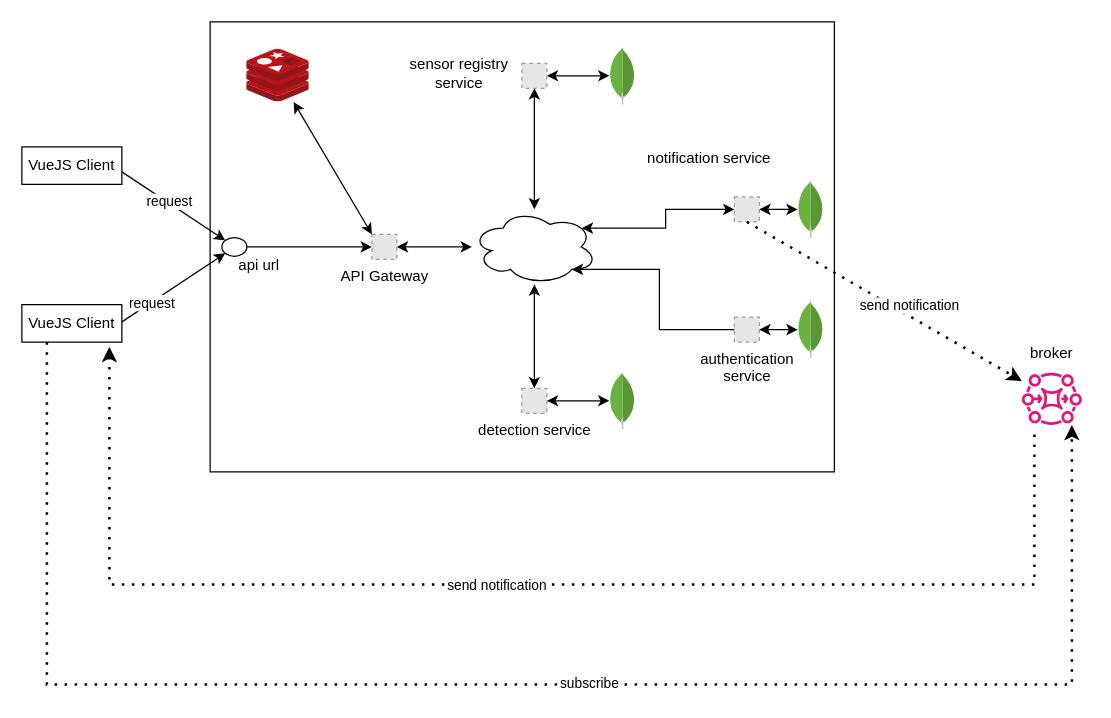
This 1111x718 diagram has some shape labels left out. Grey dashed boxes stand in for pictures. Each missing label, with the centre of its shape:
"http/socket" belongs at pixel 534 246.
"tokens" belongs at pixel 277 75.
